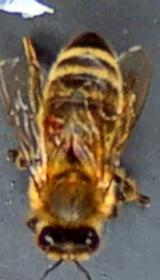varroa_mite: (33, 102, 75, 154)
